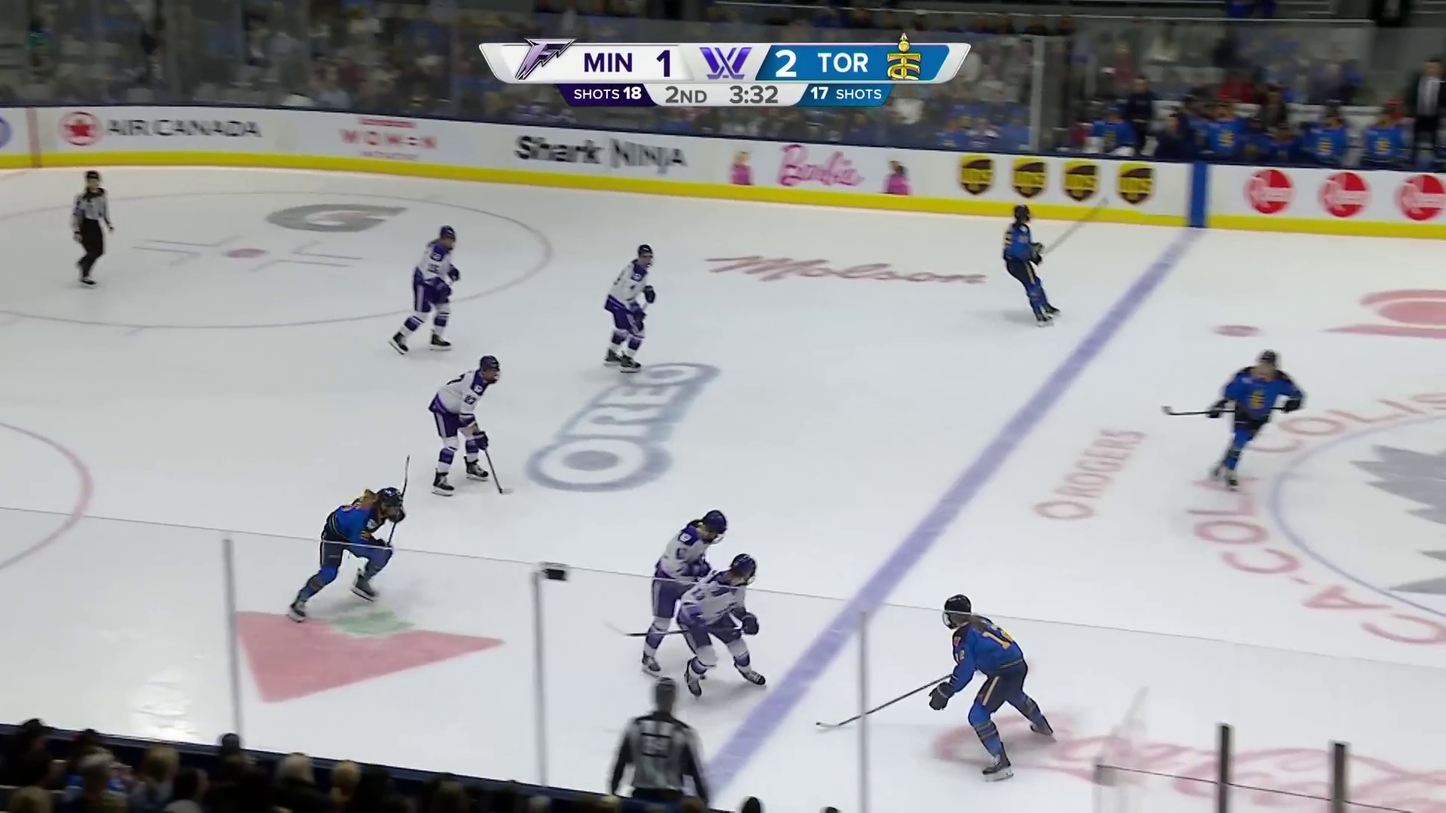player: (928, 593, 1058, 784), (282, 484, 409, 626), (641, 509, 730, 678), (674, 552, 772, 700), (1206, 348, 1306, 490), (429, 353, 505, 500), (389, 224, 462, 358), (1001, 203, 1063, 329), (601, 242, 658, 375)
referee: (70, 168, 116, 290)
